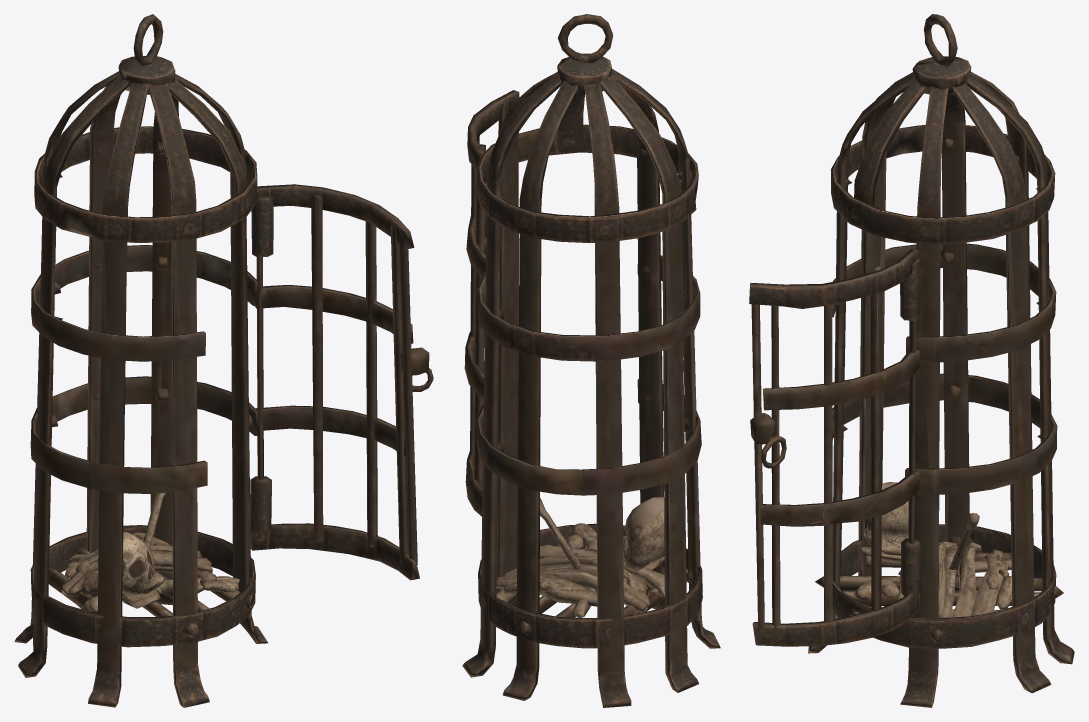
The model's file is p_cage.glb.
The picture shows the model from 3 angles, left to right: view 1: azimuth 30°, elevation 25°; view 2: azimuth 150°, elevation 25°; view 3: azimuth 270°, elevation 25°; orthographic projection.
Parts seen in each view (by area): view 1: p_cage; view 2: p_cage; view 3: p_cage.
Part boxes in pixels (box(x1,y1,x2,y2)): p_cage: box(14, 14, 433, 707); p_cage: box(462, 14, 720, 707); p_cage: box(749, 14, 1074, 707).
Size of the model in its own units: 0.7792 by 1.5 by 0.6935.
1 material, 1 textured.
